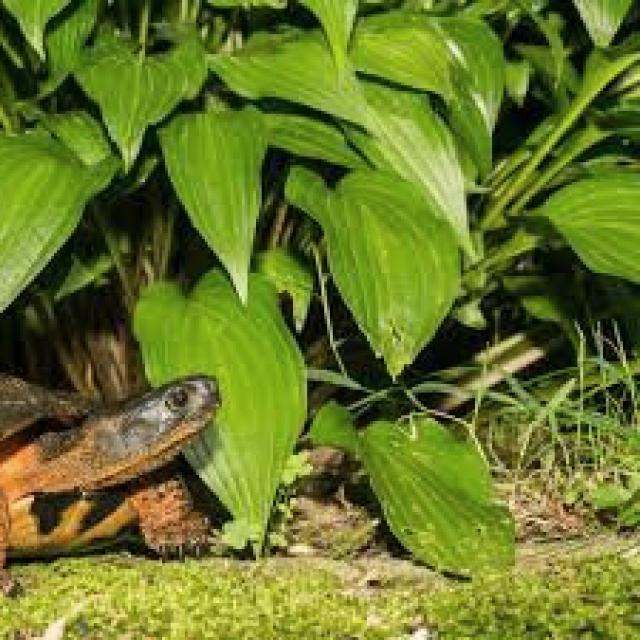turtle: (3, 375, 219, 569)
